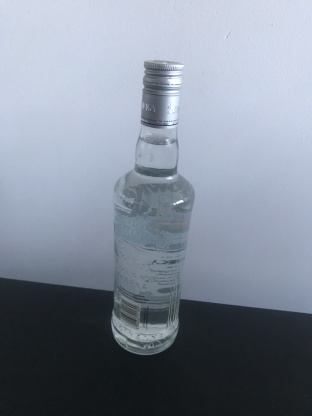nakretka: (139, 58, 185, 130)
